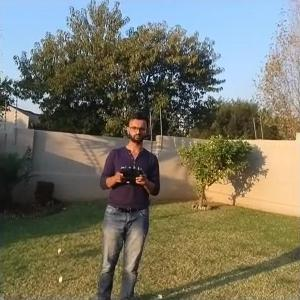follow: (94, 107, 163, 298)
